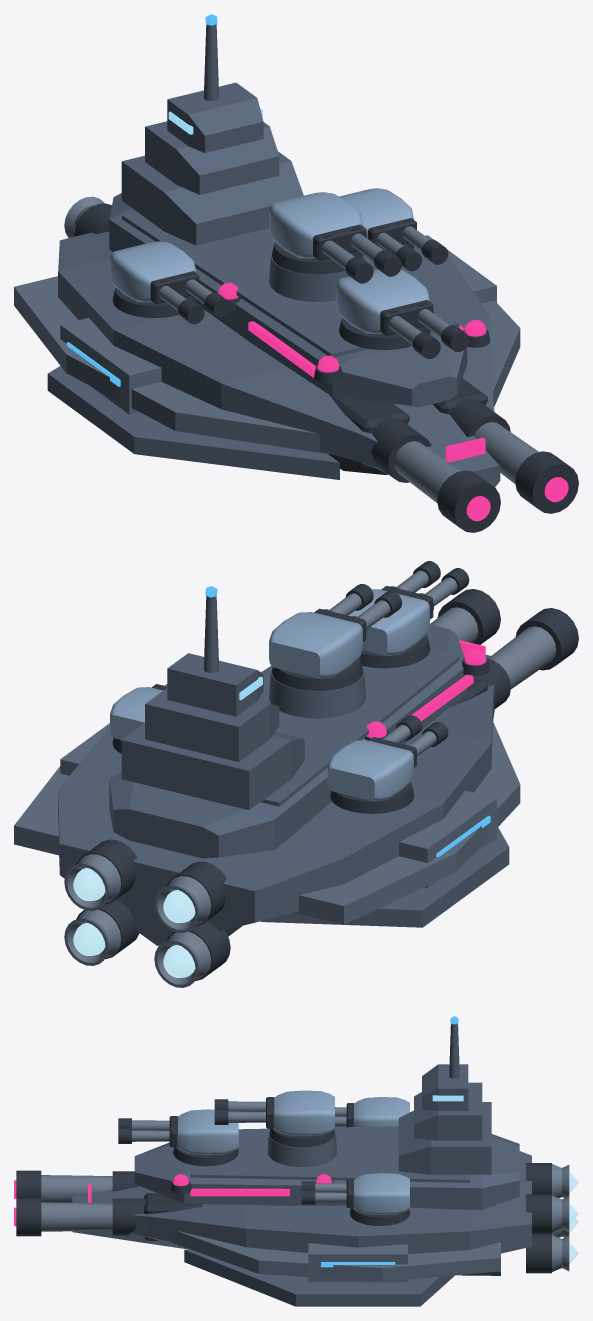
The model's file is iron_dreadnought.glb.
The picture shows the model from 3 angles, top to bottom: view 1: azimuth 30°, elevation 25°; view 2: azimuth 150°, elevation 25°; view 3: azimuth 270°, elevation 25°; orthographic projection. The views are drawn at different scales.
Visible parts, largest first — view 1: iron_dreadnought; view 2: iron_dreadnought; view 3: iron_dreadnought.
Part boxes in pixels (box(x1,y1,x2,y2)): iron_dreadnought: box(14, 14, 578, 532); iron_dreadnought: box(14, 561, 578, 987); iron_dreadnought: box(14, 1016, 578, 1306).
Bounding box in the file's own units: 5.2 × 4.58 × 9.09.
